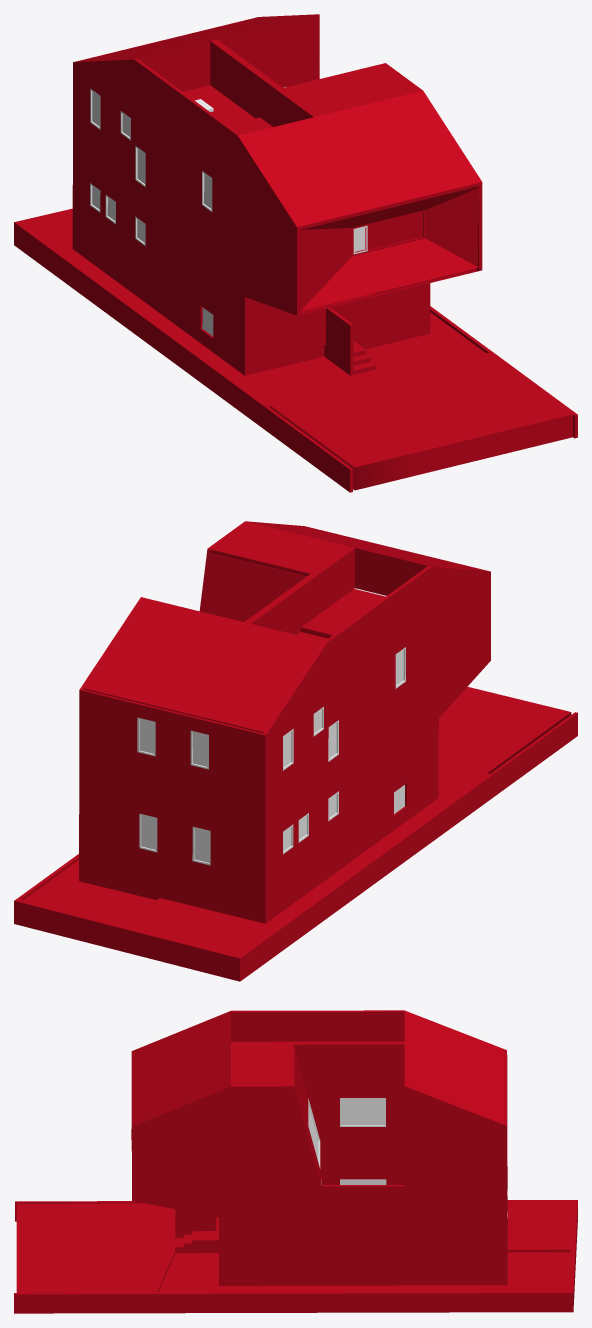
File: asset.glb
The picture shows the model from 3 angles, top to bottom: view 1: azimuth 30°, elevation 25°; view 2: azimuth 150°, elevation 25°; view 3: azimuth 270°, elevation 25°; orthographic projection. The views are drawn at different scales.
Parts seen in each view (by area): view 1: 3D_FACADE_BLACK, 3D_FIRST FLOOR, 3D_FACADE_REFLECTIVE, 3D_SURROUNDING CONTEXT, 3D_WALL, 3D_WINDOW FRAMES, 3d_Glass, 3D_TURF, 3D_FACADE_REFLECTIVE.001, Windows frames, 3D_FLOOR, 3D_FACADE_WHITE; view 2: 3D_FACADE_BLACK, 3D_FIRST FLOOR, 3D_SURROUNDING CONTEXT, 3D_FACADE_WHITE, 3D_TURF, 3d_Glass, 3D_WINDOW FRAMES, Windows frames, 3D_FLOOR, 3D_WALL; view 3: 3D_FACADE_BLACK, 3D_FIRST FLOOR, 3D_SURROUNDING CONTEXT, 3D_FACADE_WHITE, 3D_TURF, 3d_Glass, Windows frames.
Part boxes in pixels (x1,y1,x2,y2): 3D_FACADE_BLACK: (72,14,482,363); 3D_FIRST FLOOR: (31,212,572,490); 3D_FACADE_REFLECTIVE: (300,186,478,314); 3D_SURROUNDING CONTEXT: (14,208,577,492); 3D_WALL: (141,18,316,91); 3D_WINDOW FRAMES: (210,44,309,126); 3d_Glass: (92,91,423,251); 3D_TURF: (366,312,485,369); 3D_FACADE_REFLECTIVE.001: (425,187,478,266); Windows frames: (90,87,425,336); 3D_FLOOR: (183,85,476,293); 3D_FACADE_WHITE: (210,39,282,91); 3D_FACADE_BLACK: (79,521,490,911); 3D_FIRST FLOOR: (79,686,571,950); 3D_SURROUNDING CONTEXT: (14,712,577,981); 3D_FACADE_WHITE: (203,553,317,624); 3D_TURF: (24,860,156,924); 3d_Glass: (139,650,403,862); 3D_WINDOW FRAMES: (254,552,354,634); Windows frames: (137,647,405,865); 3D_FLOOR: (297,588,386,641); 3D_WALL: (355,551,424,595); 3D_FACADE_BLACK: (131,1010,507,1272); 3D_FIRST FLOOR: (16,1201,571,1292); 3D_SURROUNDING CONTEXT: (14,1200,577,1313); 3D_FACADE_WHITE: (293,1041,404,1184); 3D_TURF: (158,1252,569,1292); 3d_Glass: (308,1099,384,1184); Windows frames: (308,1098,507,1217).
Bounding box in the file's own units: 8.07 × 8.79 × 20.69.
